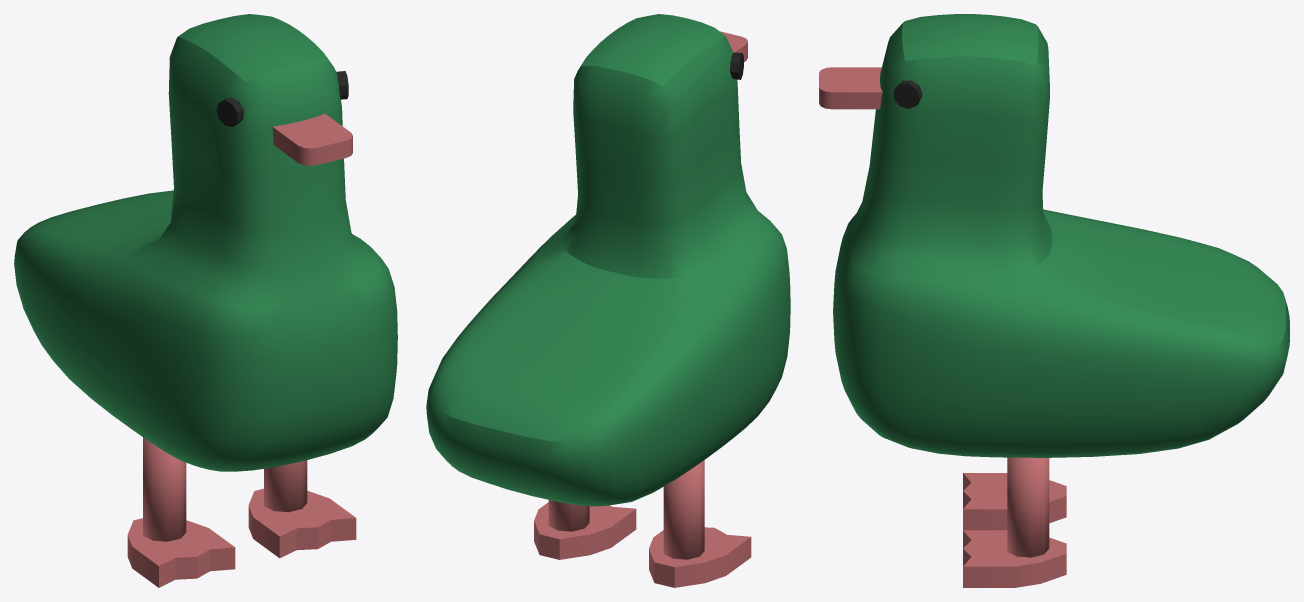
Rendered from duck.fbx.
3 views of the same model, side by side, from view 1: azimuth 30°, elevation 25°; view 2: azimuth 150°, elevation 25°; view 3: azimuth 270°, elevation 25° (orthographic). The views are drawn at different scales.
Parts seen in each view (by area): view 1: Cube.003, Cube.005, Cylinder.001, Cube.004, Cylinder; view 2: Cube.003, Cube.005, Cylinder.001; view 3: Cube.003, Cube.005, Cylinder.001, Cube.004, Cylinder.
Boxes of the visible parts, x1,y1,x2,y2 form: Cube.003: (14,14,397,471); Cube.005: (127,488,356,587); Cylinder.001: (143,437,307,541); Cube.004: (272,114,352,165); Cylinder: (216,71,348,126); Cube.003: (426,14,790,506); Cube.005: (534,502,751,587); Cylinder.001: (548,460,704,559); Cube.003: (833,14,1289,457); Cube.005: (963,473,1066,587); Cylinder.001: (1007,457,1049,557); Cube.004: (819,67,882,109); Cylinder: (894,80,922,108).
Bounding box in the file's own units: 29.34 × 62.87 × 52.28.
